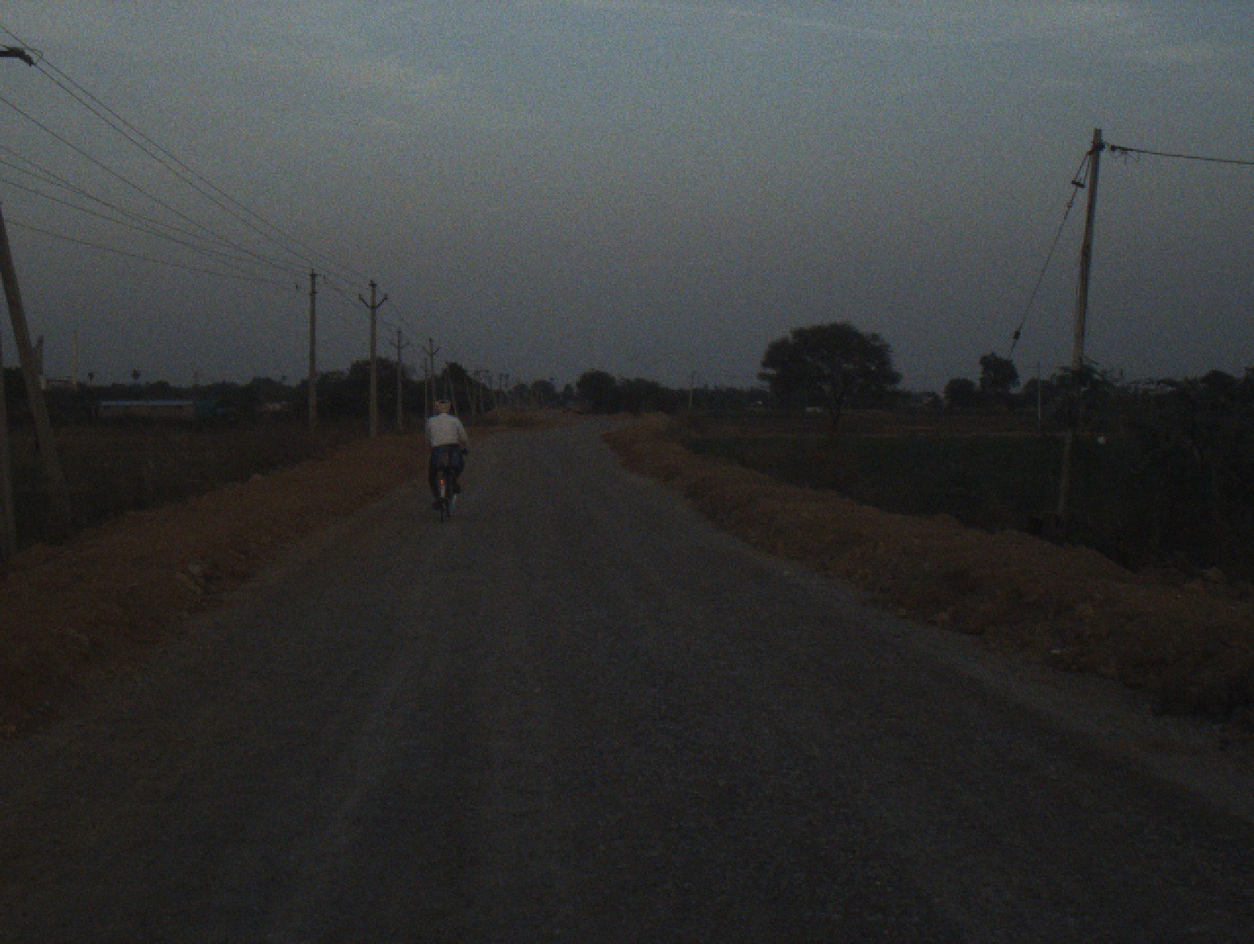bicycle: (435, 440, 461, 520)
rider: (420, 395, 468, 517)
